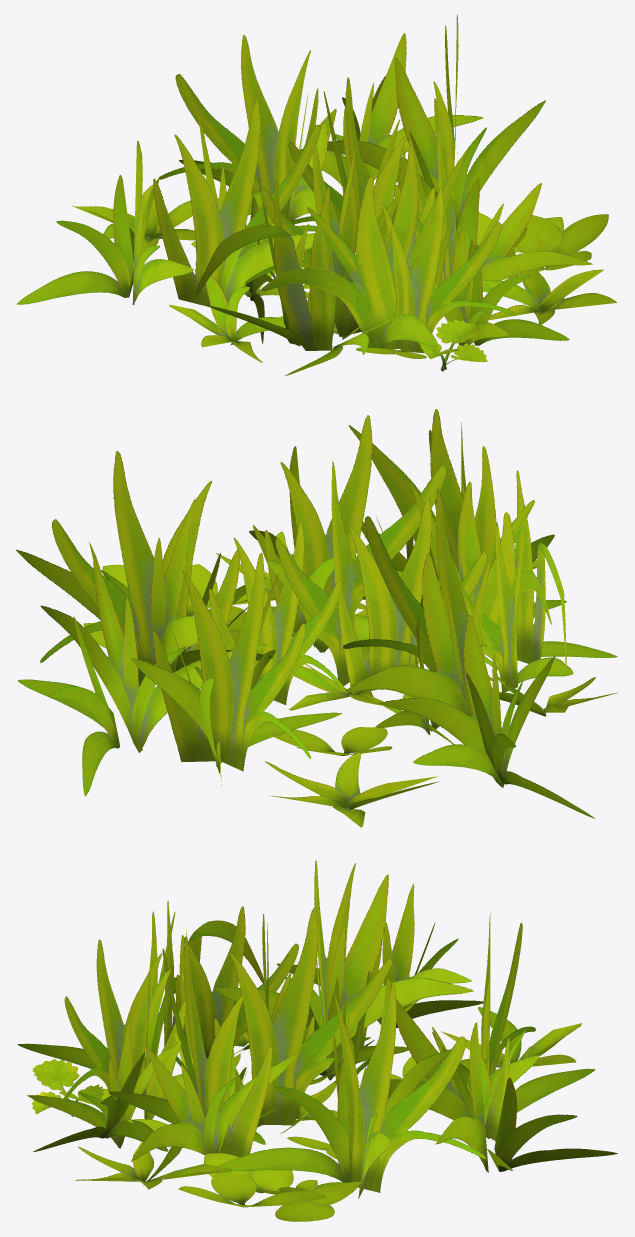
Rendered from grasses1.fbx.
3 views of the same model, one above another, from view 1: azimuth 30°, elevation 25°; view 2: azimuth 150°, elevation 25°; view 3: azimuth 270°, elevation 25° (orthographic). The views are drawn at different scales.
Visible parts, largest first — view 1: grass01; view 2: grass01; view 3: grass01.
Part boxes in pixels (bbox=[...]): grass01: bbox=[17, 14, 616, 375]; grass01: bbox=[16, 409, 618, 827]; grass01: bbox=[17, 860, 617, 1221].
Size of the model in its own units: 82.52 by 33.46 by 79.12.
Materials: 1 (1 with a texture image).
